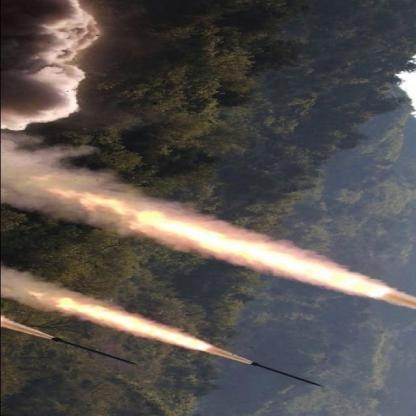MIL_TBM: (42, 336, 141, 366), (247, 360, 330, 390)
